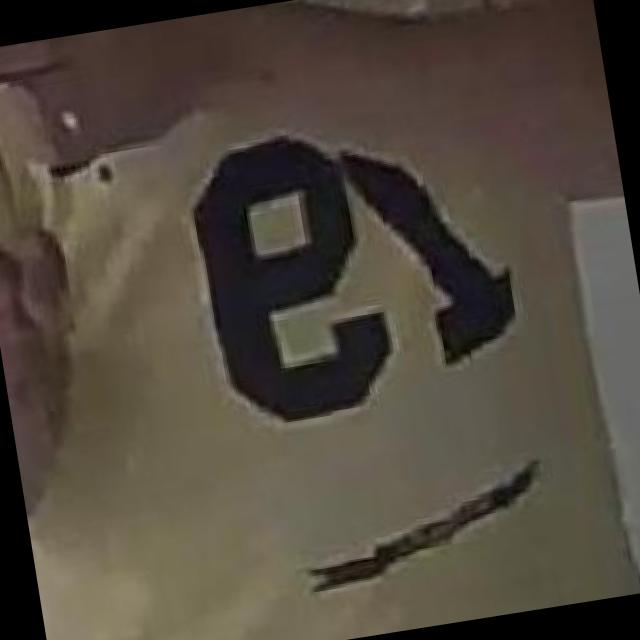Guns: (0, 21, 175, 152)
